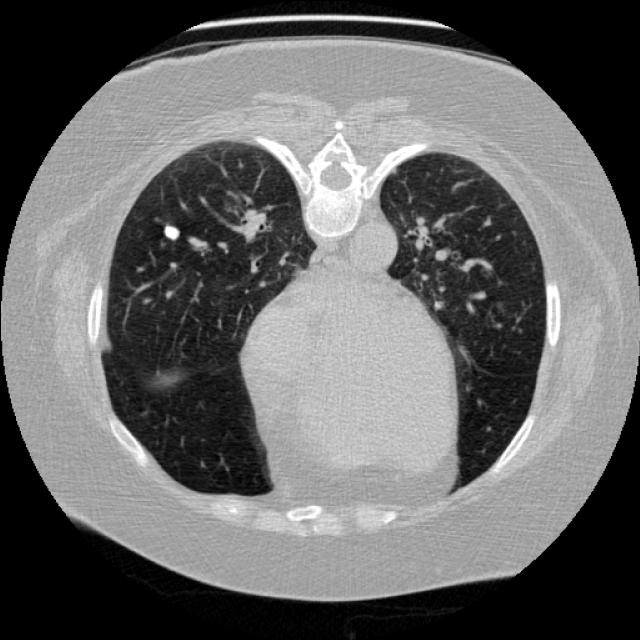nodule: (152, 216, 188, 252)
